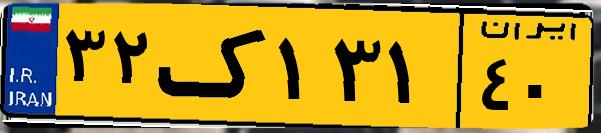0: (525, 38, 570, 115)
1: (270, 28, 330, 110), (385, 28, 445, 110)
2: (110, 28, 158, 98)
3: (330, 28, 385, 110), (57, 26, 110, 100)
4: (475, 38, 525, 113)
ک: (158, 12, 270, 120)
